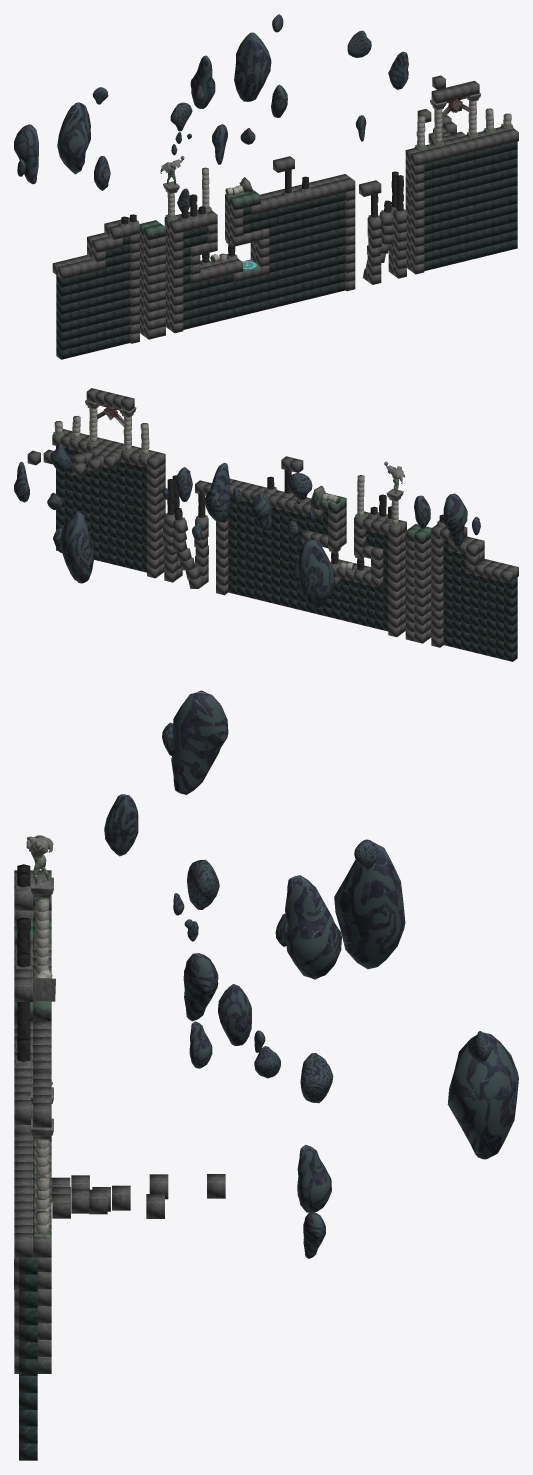
The model's file is decors_03.fbx.
The picture shows the model from 3 angles, top to bottom: view 1: azimuth 30°, elevation 25°; view 2: azimuth 150°, elevation 25°; view 3: azimuth 270°, elevation 25°; orthographic projection. The views are drawn at different scales.
Parts seen in each view (by area): view 1: HR_T_rocher_18, HR_T_rocher_6, HR_T_rocher_4, HR_T_rocher_16, HR_T_rocher_14, HR_T_rocher_15, HR_T_colonneArriere_11, HR_T_rocher_2, HR_T_rocher_1, HR_T_rocher_13, HR_T_rocher_3, HR_T_colonneArriere_12; view 2: HR_T_rocher_6, HR_T_rocher_18, HR_T_rocher_16, HR_T_rocher_4, HR_T_rocher_2, HR_T_rocher_3, HR_T_rocher_13, HR_T_rocher_14, HR_T_colonneArriere_12, HR_T_colonneArriere_11, HR_T_rocher_1, HR_T_rocher_15 (+3 smaller); view 3: HR_T_rocher_6, HR_T_rocher_18, HR_T_rocher_16, HR_T_rocher_4, HR_T_rocher_2, HR_T_rocher_14, HR_T_rocher_1, HR_T_rocher_13, HR_T_rocher_3, HR_T_rocher_15, HR_T_colonneArriere_10, HR_T_colonneArriere_12.
Boxes of the visible parts, left/top/right/bottom form: HR_T_rocher_18: left=234, top=32, right=271, bottom=101; HR_T_rocher_6: left=57, top=102, right=90, bottom=174; HR_T_rocher_4: left=14, top=124, right=38, bottom=184; HR_T_rocher_16: left=190, top=55, right=215, bottom=108; HR_T_rocher_14: left=388, top=51, right=408, bottom=89; HR_T_rocher_15: left=347, top=30, right=371, bottom=57; HR_T_colonneArriere_11: left=430, top=99, right=446, bottom=147; HR_T_rocher_2: left=212, top=124, right=227, bottom=164; HR_T_rocher_1: left=94, top=156, right=110, bottom=190; HR_T_rocher_13: left=271, top=84, right=287, bottom=117; HR_T_rocher_3: left=170, top=102, right=192, bottom=131; HR_T_colonneArriere_12: left=466, top=93, right=480, bottom=138; HR_T_rocher_6: left=297, top=539, right=335, bottom=609; HR_T_rocher_18: left=60, top=511, right=93, bottom=583; HR_T_rocher_16: left=205, top=462, right=230, bottom=522; HR_T_rocher_4: left=442, top=493, right=467, bottom=547; HR_T_rocher_2: left=251, top=492, right=271, bottom=530; HR_T_rocher_3: left=288, top=473, right=312, bottom=500; HR_T_rocher_13: left=176, top=467, right=192, bottom=501; HR_T_rocher_14: left=14, top=461, right=29, bottom=502; HR_T_colonneArriere_12: left=85, top=400, right=99, bottom=446; HR_T_colonneArriere_11: left=119, top=407, right=136, bottom=454; HR_T_rocher_1: left=414, top=495, right=430, bottom=528; HR_T_rocher_15: left=50, top=443, right=71, bottom=472; HR_T_rocher_6: left=334, top=842, right=405, bottom=969; HR_T_rocher_18: left=447, top=1032, right=518, bottom=1159; HR_T_rocher_16: left=285, top=875, right=341, bottom=979; HR_T_rocher_4: left=171, top=690, right=228, bottom=794; HR_T_rocher_2: left=183, top=953, right=218, bottom=1021; HR_T_rocher_14: left=297, top=1145, right=331, bottom=1212; HR_T_rocher_1: left=104, top=794, right=138, bottom=856; HR_T_rocher_13: left=218, top=984, right=251, bottom=1045; HR_T_rocher_3: left=187, top=859, right=219, bottom=909; HR_T_rocher_15: left=300, top=1053, right=333, bottom=1103; HR_T_colonneArriere_10: left=33, top=897, right=51, bottom=977; HR_T_colonneArriere_12: left=31, top=1118, right=53, bottom=1209.
Bounding box in the file's own units: 5333 × 2196 × 2707.
